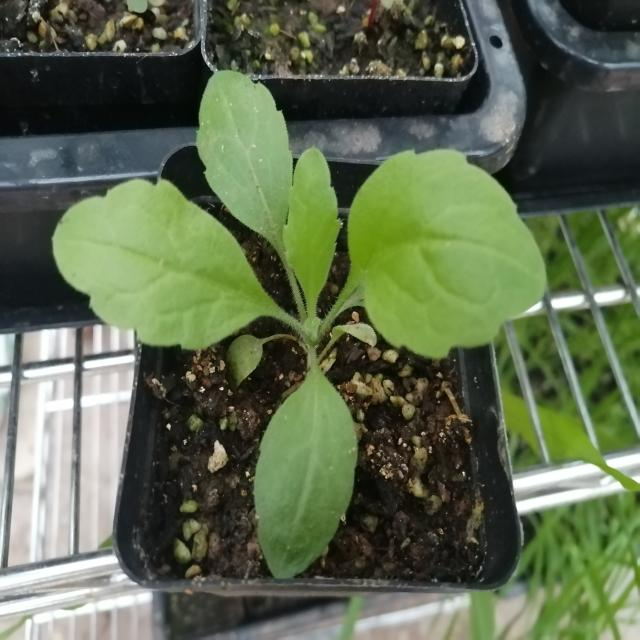horseweed: (70, 59, 541, 530)
